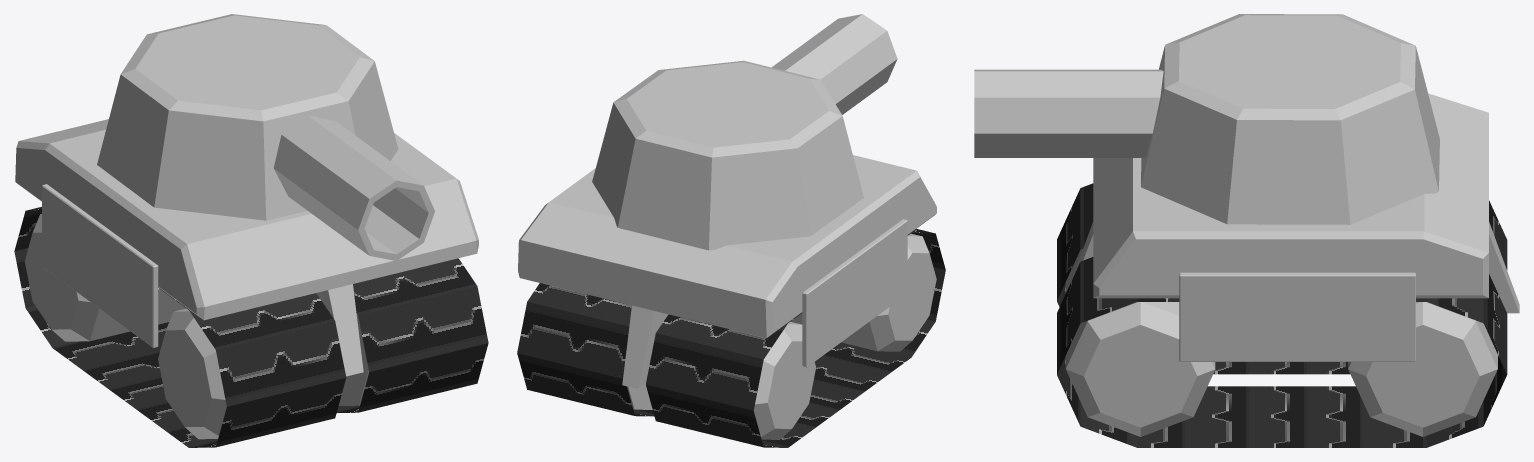
Rendered from Tank.fbx.
The picture shows the model from 3 angles, left to right: view 1: azimuth 30°, elevation 25°; view 2: azimuth 150°, elevation 25°; view 3: azimuth 270°, elevation 25°; orthographic projection. The views are drawn at different scales.
Parts seen in each view (by area): view 1: Bottom, Gun, WheelsFront, WheelsBack; view 2: Bottom, Gun, WheelsBack, WheelsFront; view 3: Bottom, Gun, WheelsFront, WheelsBack.
Boxes of the visible parts, left/top/right/bottom form: Bottom: left=14, top=119, right=488, bottom=447; Gun: left=97, top=14, right=434, bottom=260; WheelsFront: left=158, top=308, right=368, bottom=439; WheelsBack: left=24, top=214, right=186, bottom=341; Bottom: left=517, top=155, right=945, bottom=447; Gun: left=592, top=14, right=897, bottom=250; WheelsBack: left=627, top=322, right=815, bottom=439; WheelsFront: left=790, top=233, right=936, bottom=351; Bottom: left=1057, top=93, right=1519, bottom=447; Gun: left=974, top=14, right=1439, bottom=224; WheelsFront: left=1065, top=249, right=1215, bottom=436; WheelsBack: left=1348, top=302, right=1497, bottom=436.
Size of the model in its own units: 1.15 by 1.13 by 1.75.
